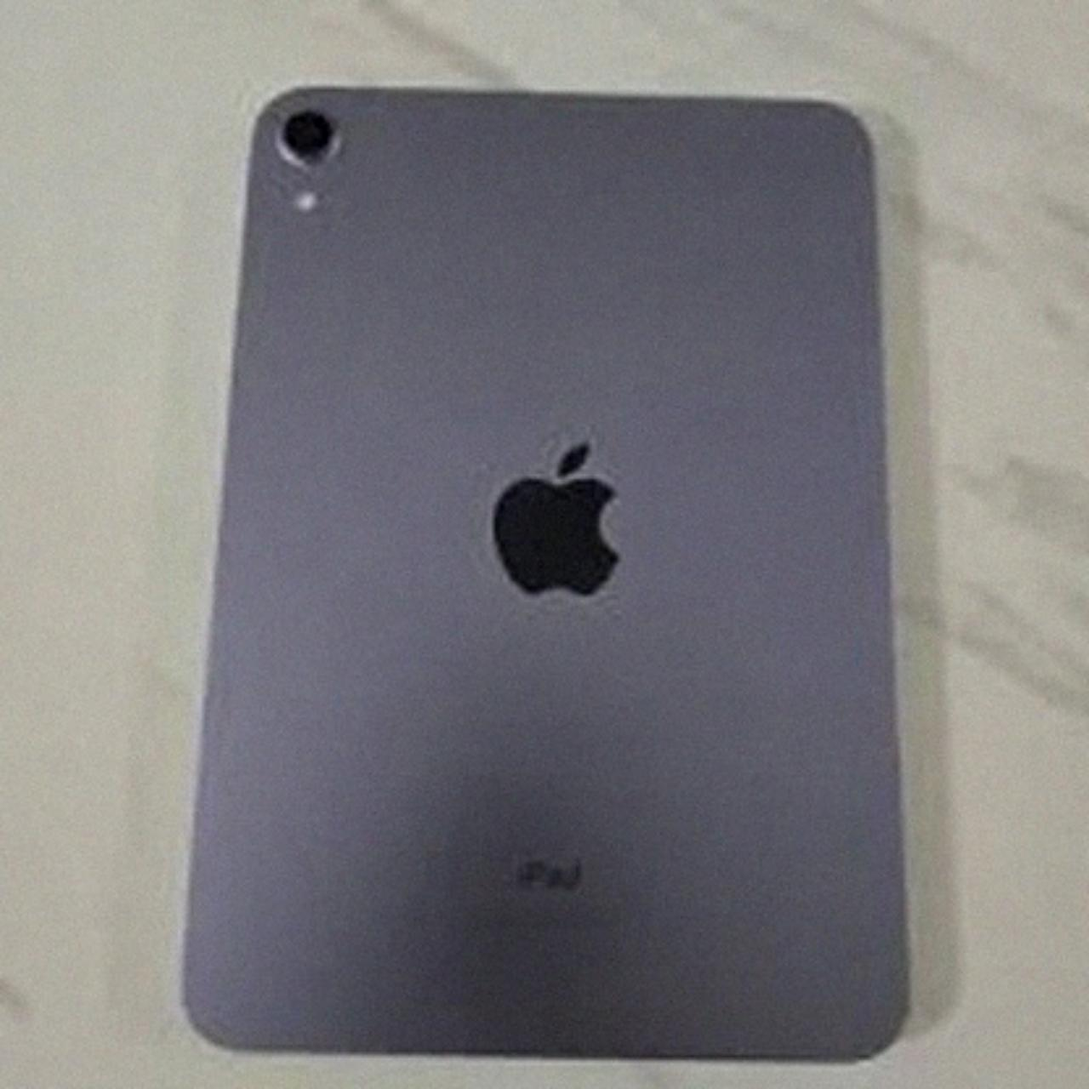Tablet_PC: (160, 71, 937, 1071)
